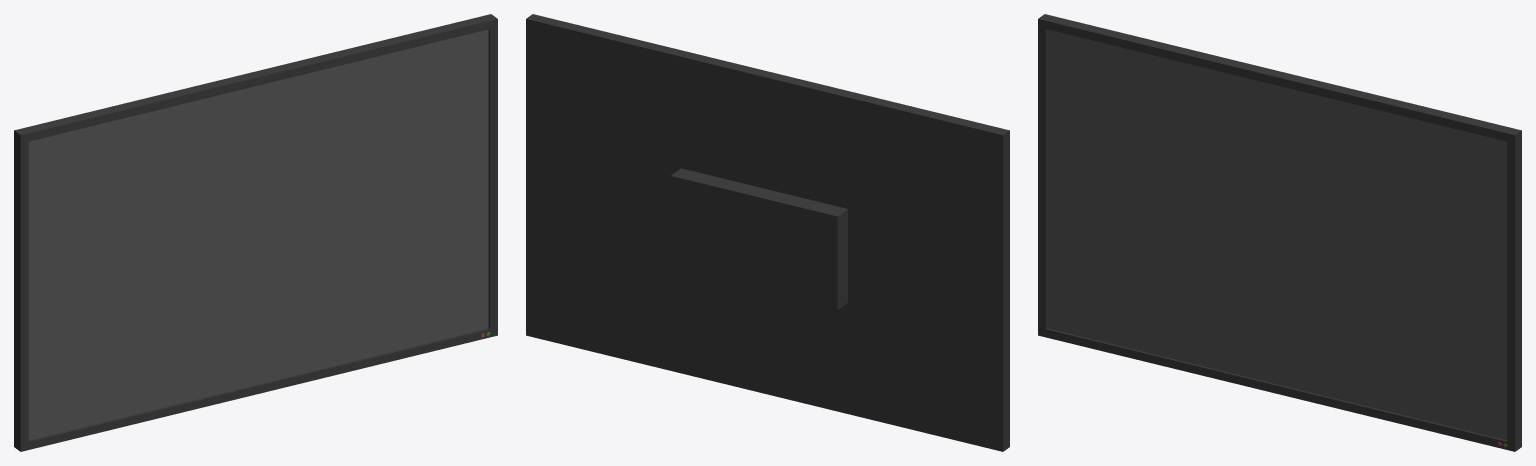
3 renders of one model, left to right at view 1: azimuth 30°, elevation 25°; view 2: azimuth 150°, elevation 25°; view 3: azimuth 330°, elevation 25°, orthographic.
Parts seen in each view (by area): view 1: TV_03; view 2: TV_03; view 3: TV_03.
Part boxes in pixels (x1=…): TV_03: x1=14, y1=14, x2=497, y2=451; TV_03: x1=526, y1=14, x2=1009, y2=451; TV_03: x1=1038, y1=14, x2=1521, y2=451.
Bounding box in the file's own units: 123 × 78 × 7.82.
